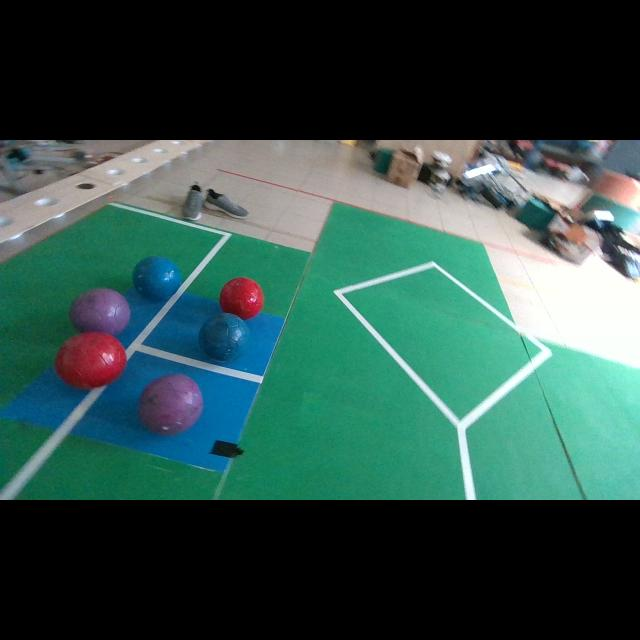B: (199, 312, 250, 362), (132, 256, 181, 301)
P: (139, 374, 204, 435), (70, 289, 130, 335)
R: (55, 332, 126, 389), (219, 278, 264, 320)
